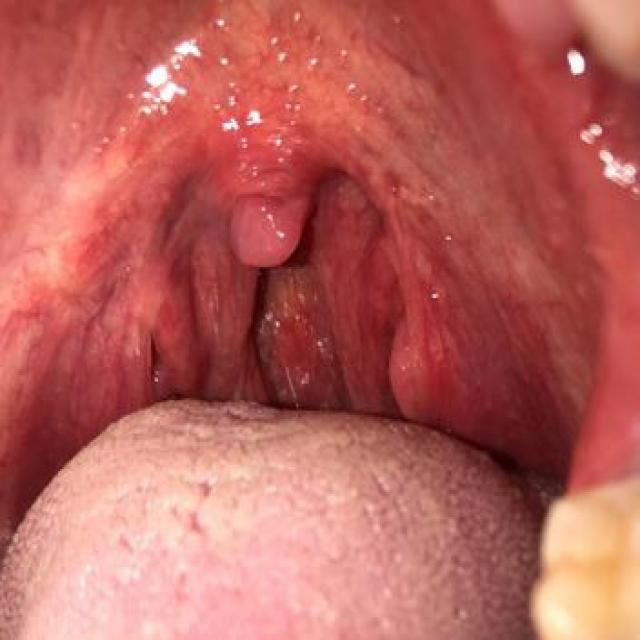Non Pharyngitis: (387, 166, 576, 465), (134, 105, 302, 384)
